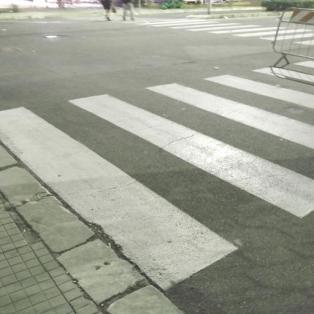Paso de Cebra: (66, 79, 314, 220)
